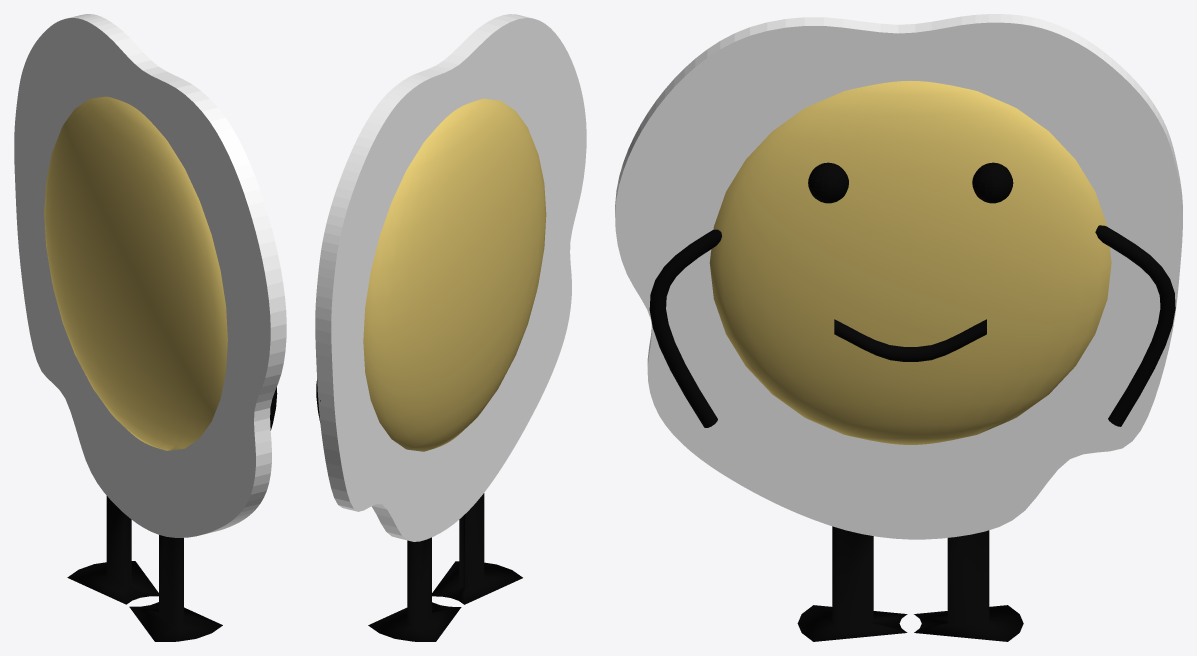
Rendered from Sir Eggselent.fbx.
3 renders of one model, left to right at view 1: azimuth 30°, elevation 25°; view 2: azimuth 150°, elevation 25°; view 3: azimuth 270°, elevation 25°, orthographic. The views are drawn at different scales.
Visible parts, largest first — view 1: Sir Eggselent; view 2: Sir Eggselent; view 3: Sir Eggselent, BézierCurve.
Part boxes in pixels (bbox=[...]): Sir Eggselent: bbox=[14, 14, 286, 641]; Sir Eggselent: bbox=[315, 14, 586, 641]; Sir Eggselent: bbox=[615, 14, 1182, 641]; BézierCurve: bbox=[649, 225, 1175, 427].
Bounding box in the file's own units: 55 × 325 × 277.
